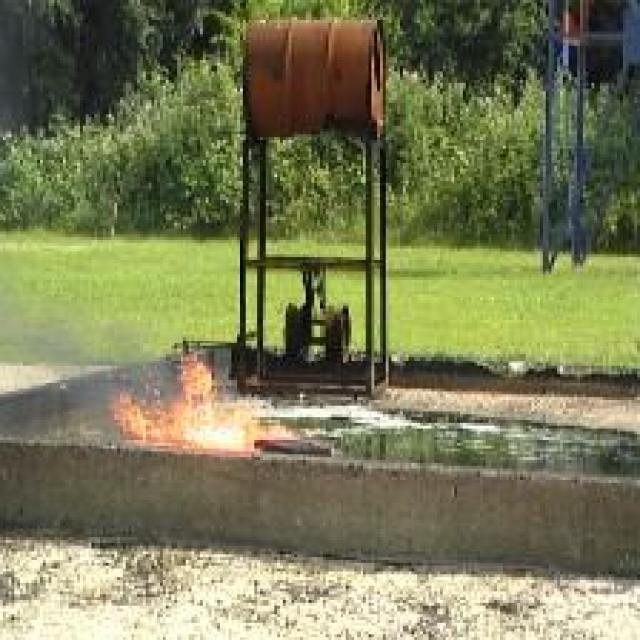Fire: (119, 353, 298, 453)
Smoke: (7, 313, 116, 439)
